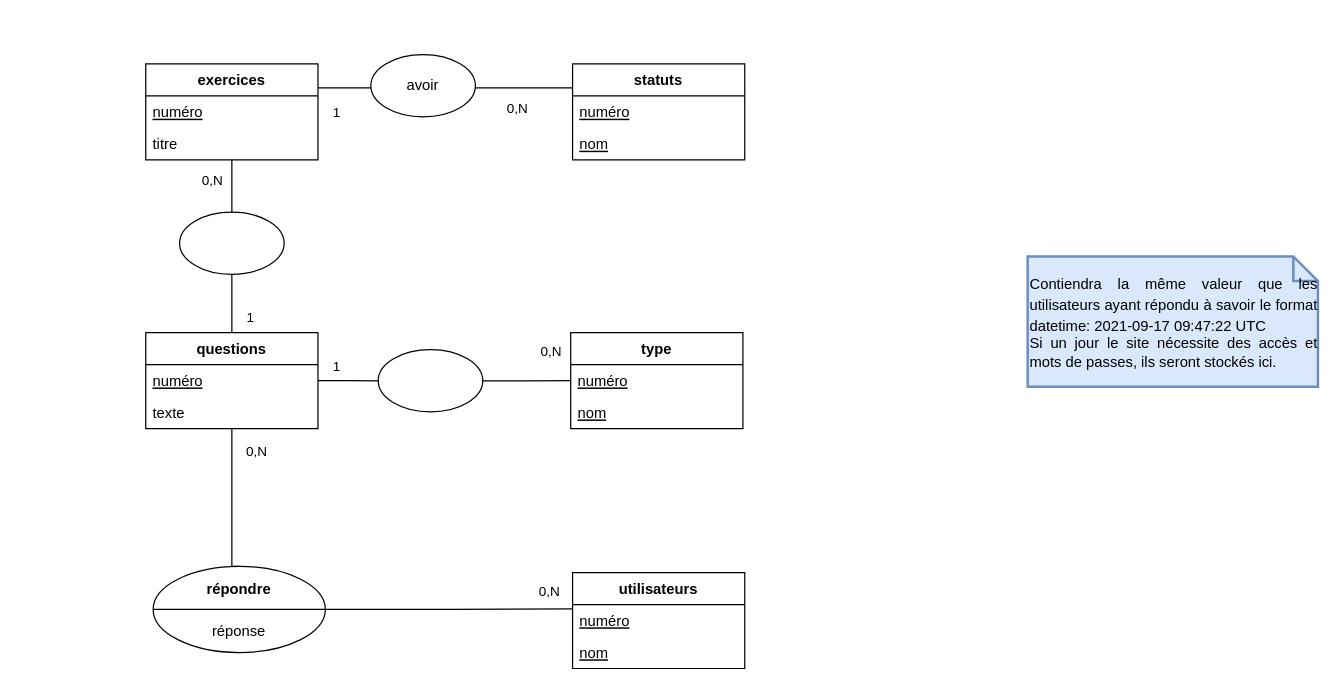
This 1339x692 diagram has some shape labels left out. The shapes that lost their labels are listed below. From the top down, each one's centre as x and y in pixels, then its label:
At point 231,242: "contenir".
At point 430,380: "définir".
